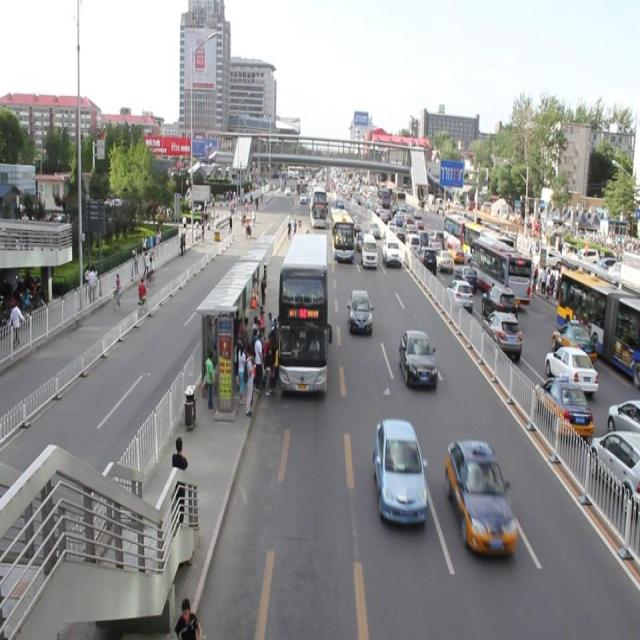car: (442, 442, 516, 552), (373, 418, 424, 527), (398, 327, 436, 388), (346, 288, 371, 332), (381, 240, 398, 268), (368, 222, 379, 240), (350, 216, 360, 234), (356, 233, 366, 249), (334, 195, 343, 209)
truck: (360, 232, 376, 267)
van: (280, 233, 326, 392), (330, 207, 353, 261), (310, 187, 325, 229)
